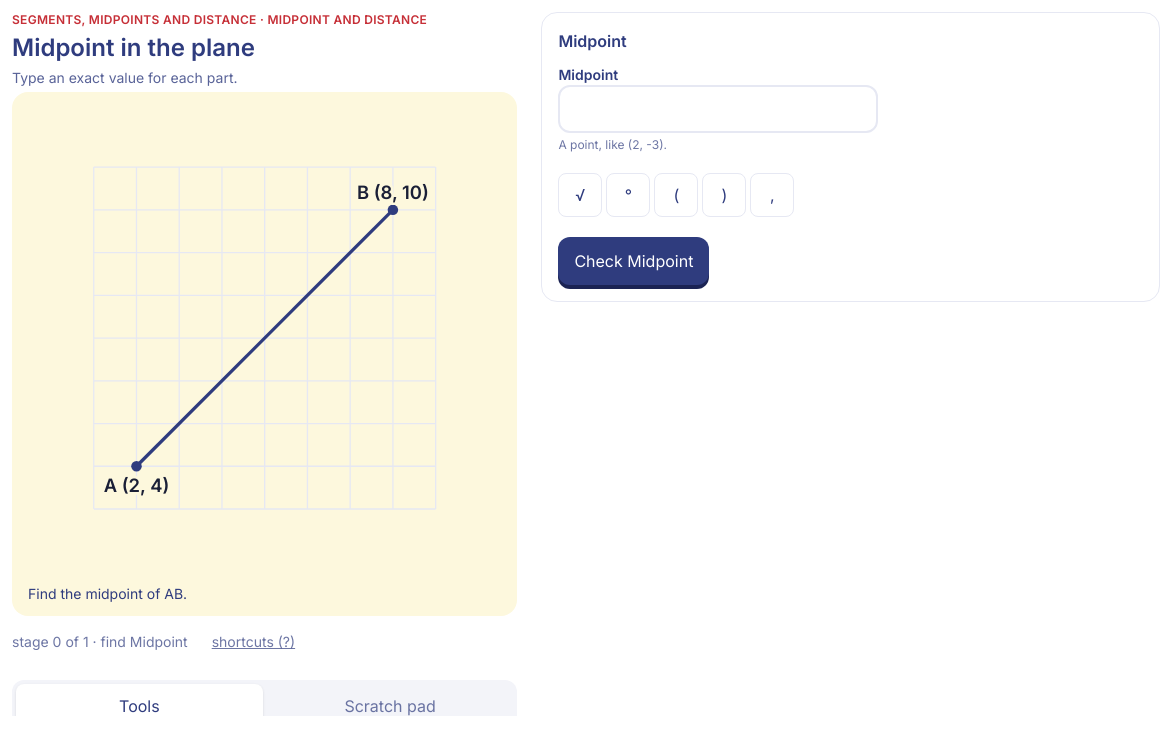
it: GeometryFlow geoSegments/gs.coord › an unreadable answer records nothing
The image size is (1164, 732).
Click the button "Check Midpoint" at (634, 261), box [558, 237, 709, 285]
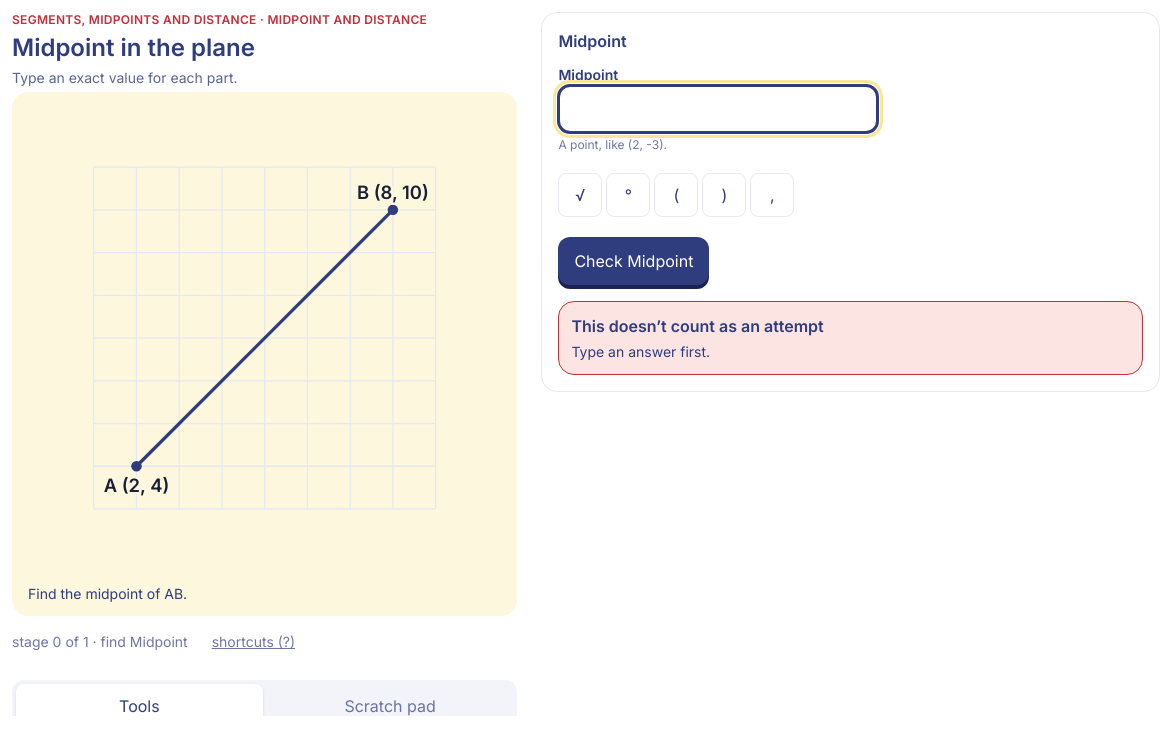
Expected: the message shows "This doesn’t count as an attempt", [571, 316, 824, 336]
Type "???" into the field labelled "Midpoint" at (718, 109), box [558, 85, 878, 133]
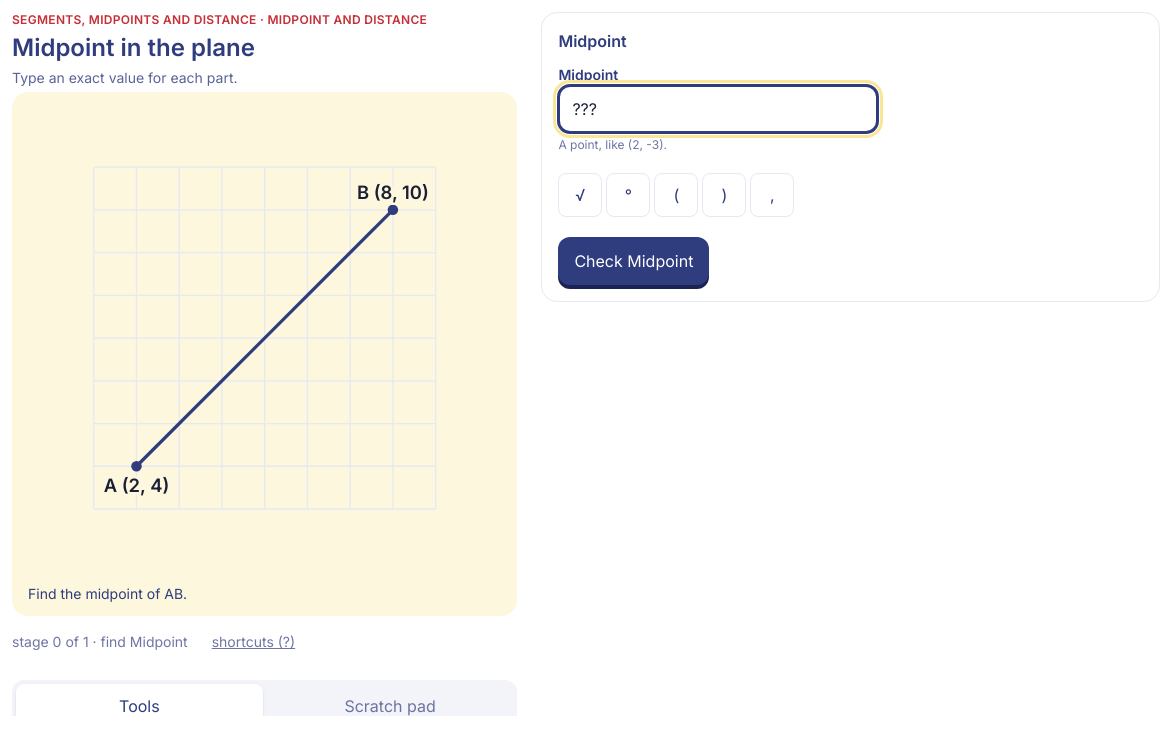
Expected: the message "This doesn’t count as an attempt Type an answer first." is gone
Click the button "Check Midpoint" at (634, 261), box [558, 237, 709, 285]
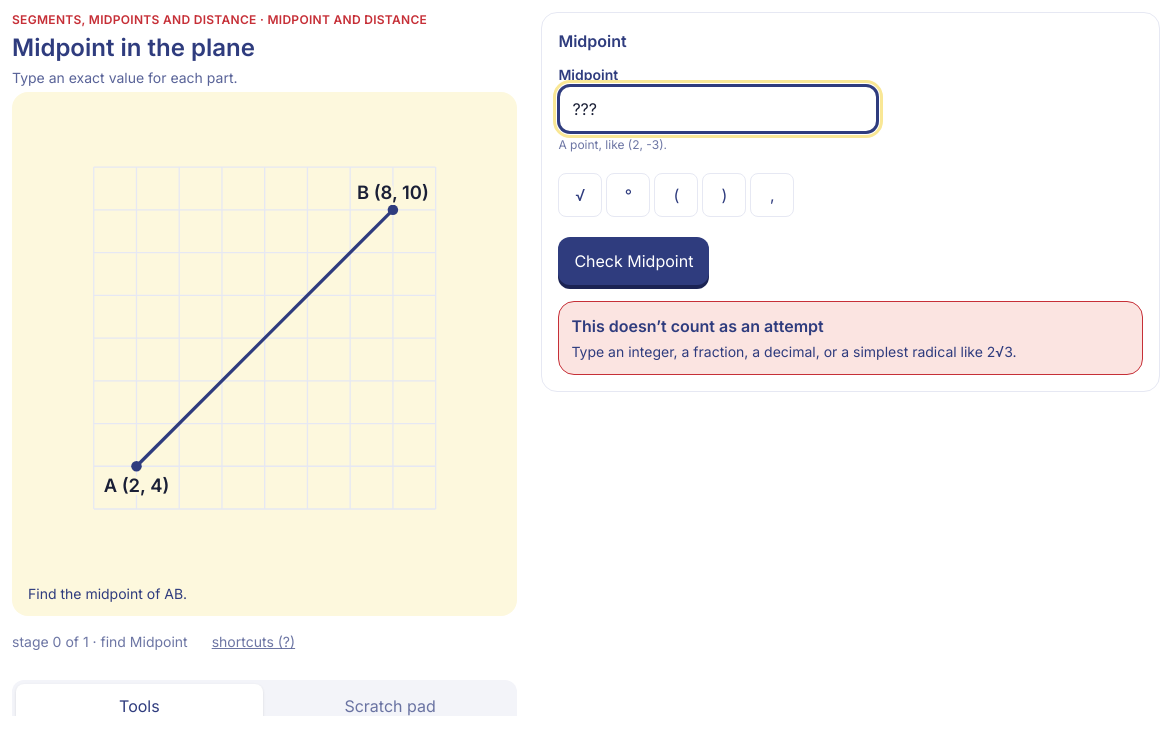
Expected: the message shows "This doesn’t count as an attempt", [571, 316, 824, 336]
Replace the text in the field labelled "Midpoint" with "√45" at (718, 109), box [558, 85, 878, 133]
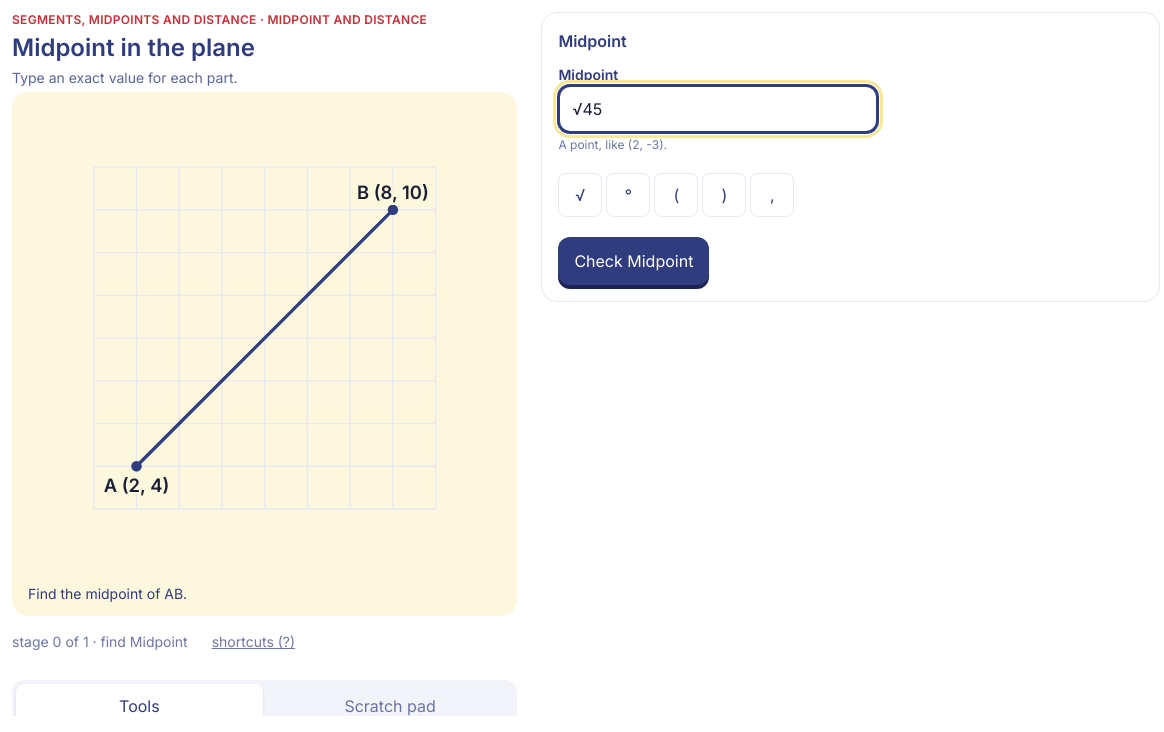
Click the button "Check Midpoint" at (634, 261), box [558, 237, 709, 285]
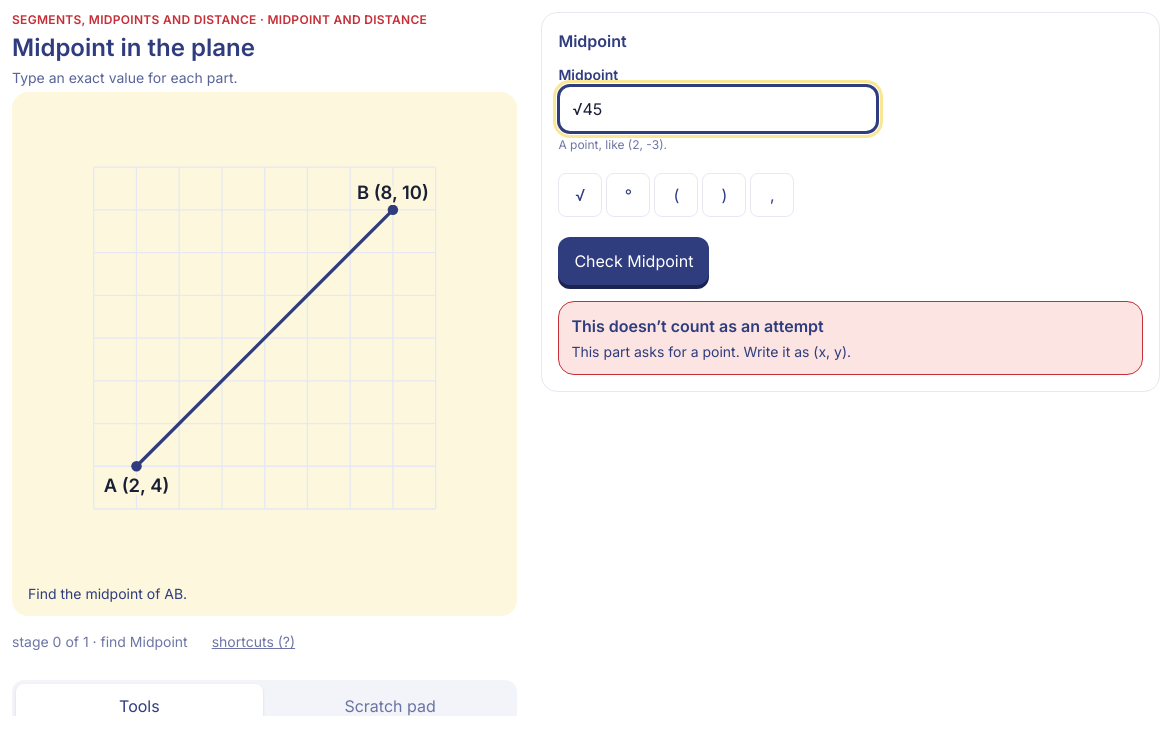
Expected: the message shows "This doesn’t count as an attempt", [571, 316, 824, 336]
